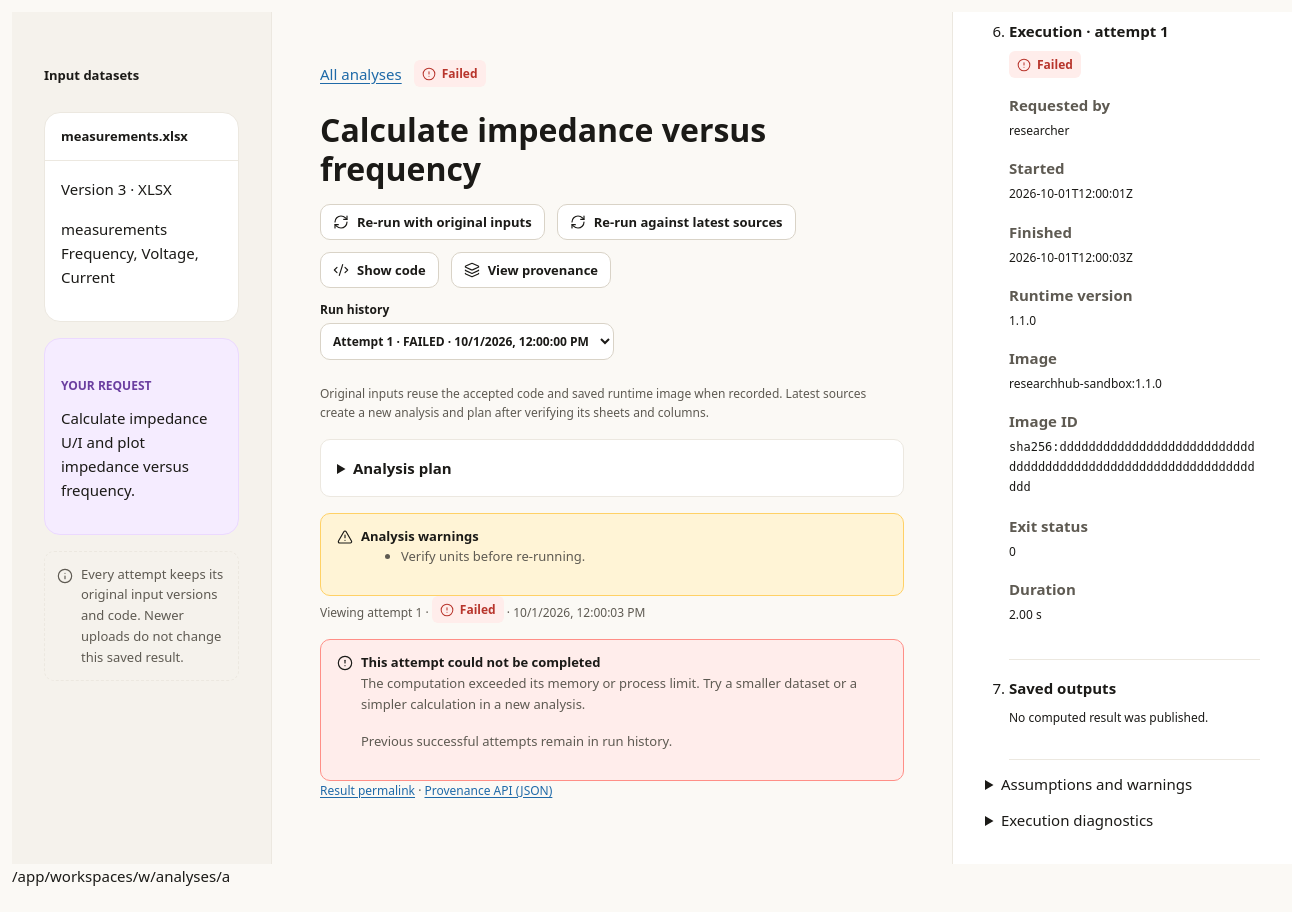
shows safe guidance for EXECUTION_RESOURCE_LIMIT even when retained diagnostics contain sensitive traceback text
The width and height of the screenshot is (1292, 912).
(page scrolled)
Expected: the text "This attempt could not be completed" is shown, x1=361 y1=653 x2=600 y2=671
Click the heading "Execution diagnostics".
click(1077, 820)  # box x1=1001 y1=810 x2=1153 y2=830
(page scrolled)
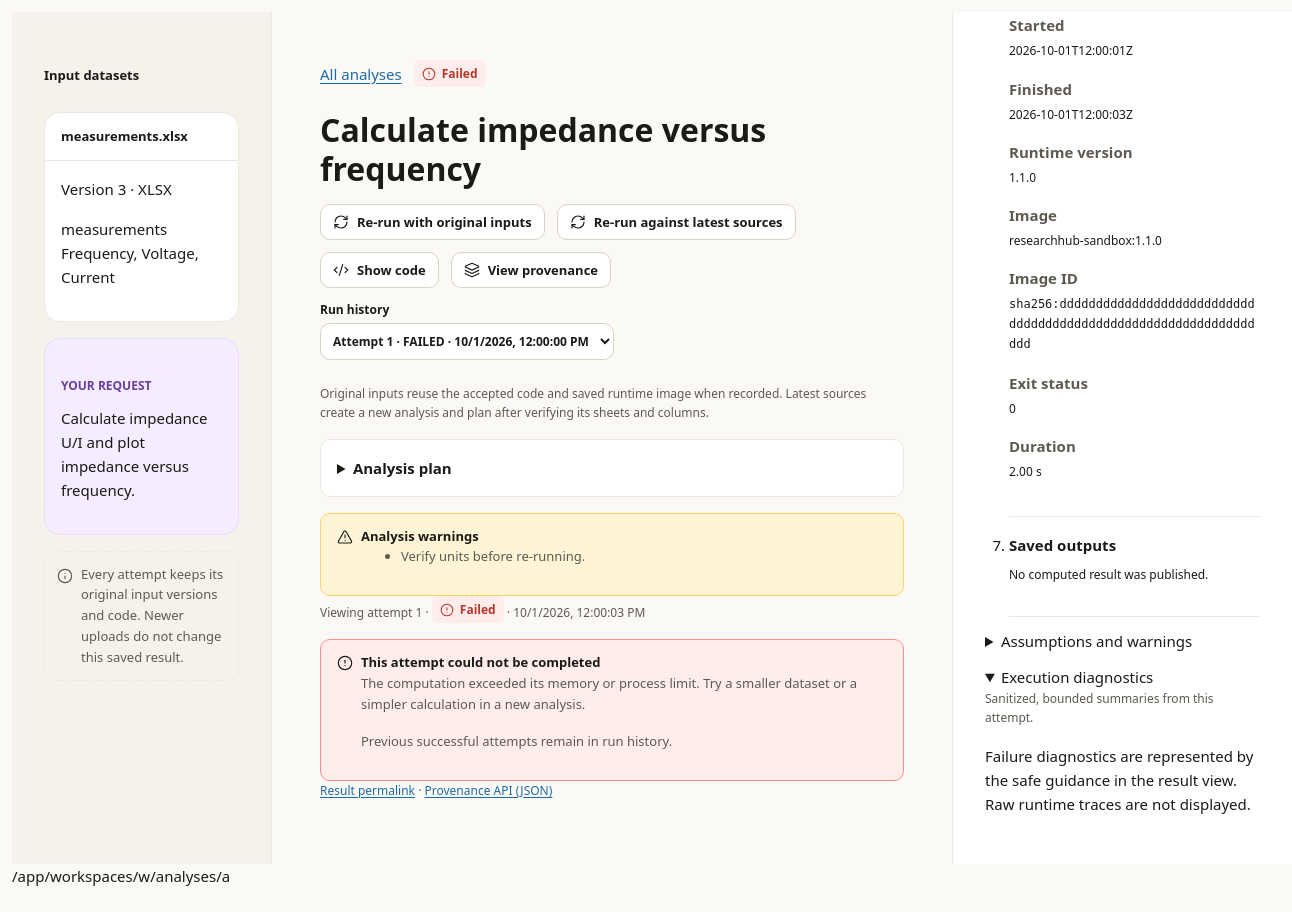
Result: the text "Failure diagnostics are represented by the safe guidance" is shown at x1=985 y1=745 x2=1253 y2=813
